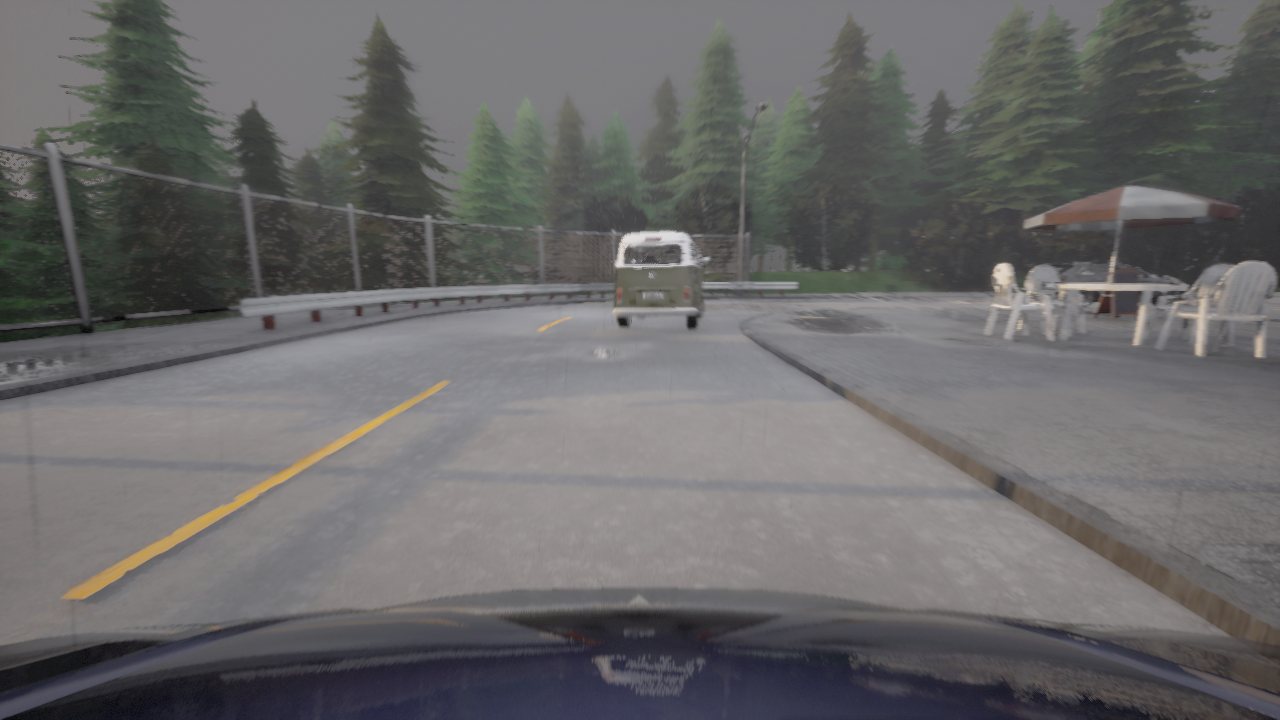cyclist: (0, 588, 1279, 719), (612, 232, 708, 329), (1021, 261, 1186, 307)
